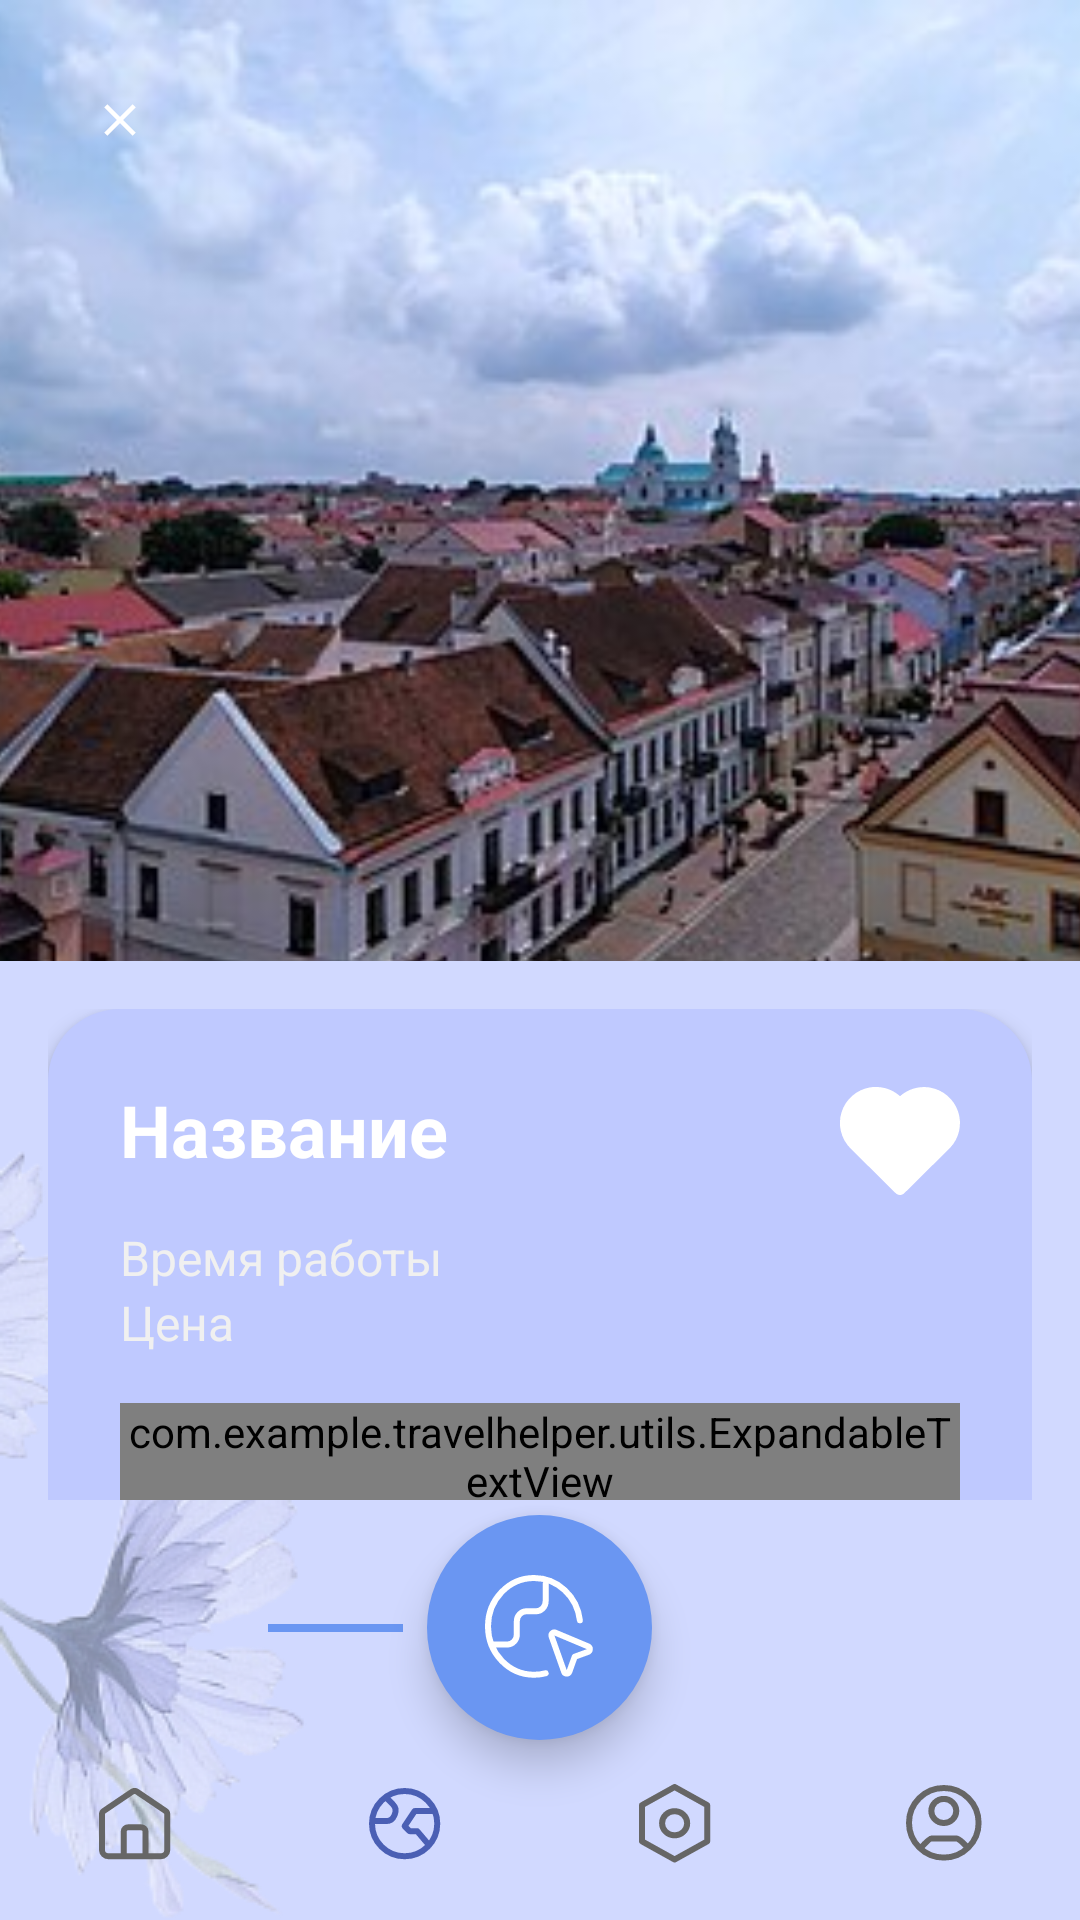

Where icons sit on this 1080px x 1920px app screen, as (left=x1, top=y1, right=x2, bottom=y2):
heart: (left=840, top=1087, right=960, bottom=1195)
Мир: (left=369, top=1788, right=441, bottom=1860)
Настройки: (left=639, top=1784, right=711, bottom=1863)
Построить маршрут: (left=427, top=1515, right=652, bottom=1740)
Профиль: (left=906, top=1785, right=982, bottom=1861)
